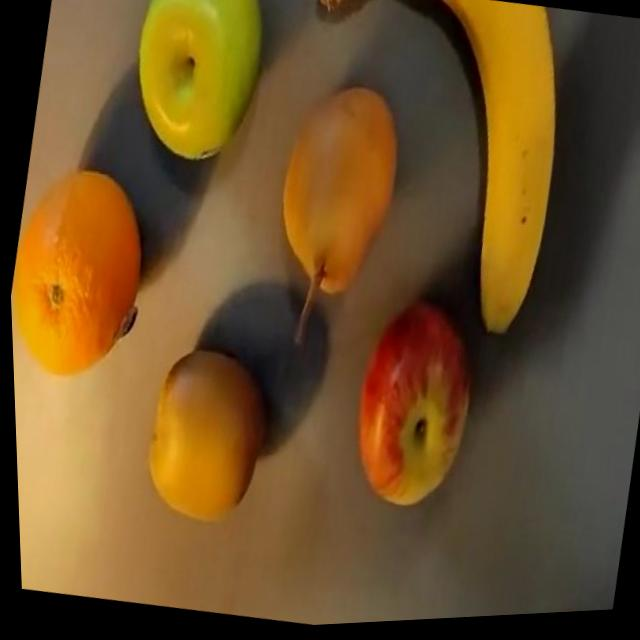Apple: (336, 294, 487, 523), (118, 0, 279, 175)
Banana: (236, 0, 621, 376)
Orange: (5, 157, 160, 391)
